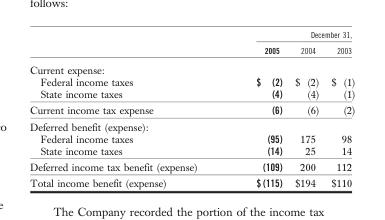table: (29, 29, 354, 189)
table column: (29, 29, 226, 189), (226, 29, 287, 189), (287, 29, 324, 189), (324, 29, 354, 189)
table column header: (29, 29, 354, 58)
table projected row header: (29, 58, 354, 75), (29, 118, 354, 132)
table row: (29, 41, 354, 58), (29, 58, 354, 75), (29, 101, 354, 118), (29, 158, 354, 174), (29, 174, 354, 189), (29, 87, 354, 101), (29, 118, 354, 132), (29, 144, 354, 158), (29, 29, 354, 41), (29, 75, 354, 87), (29, 132, 354, 144)
table spanning cell: (226, 29, 354, 41)
